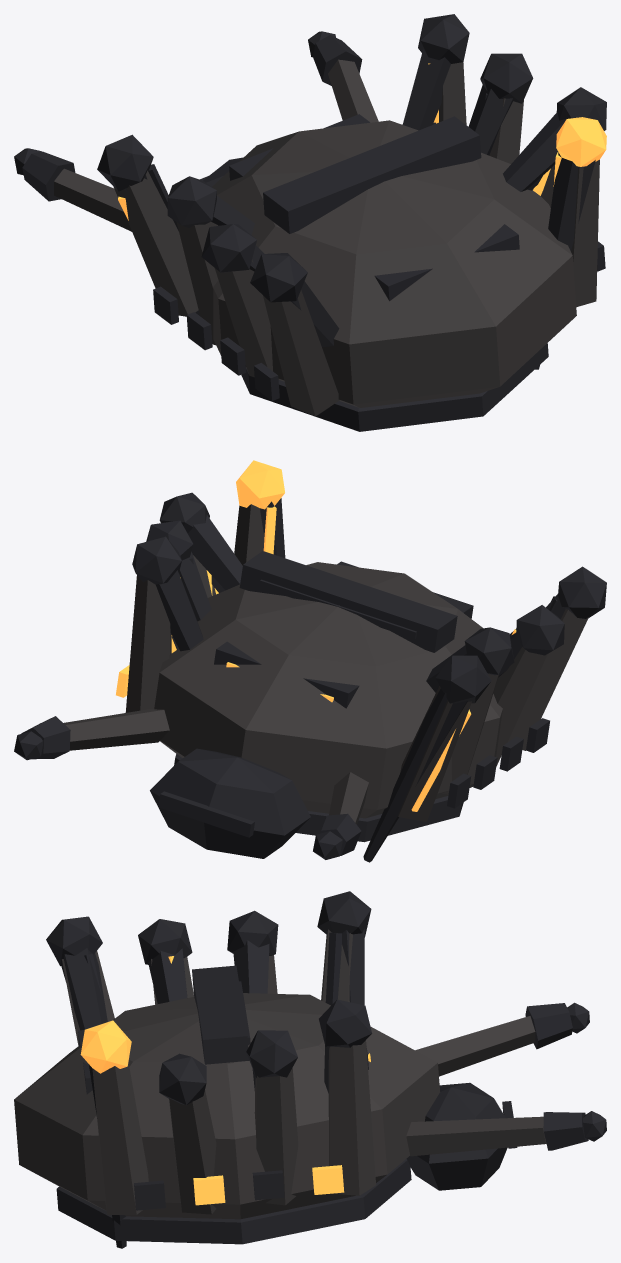
File: Wreck_BulwarkTick.fbx
The picture shows the model from 3 angles, top to bottom: view 1: azimuth 30°, elevation 25°; view 2: azimuth 150°, elevation 25°; view 3: azimuth 270°, elevation 25°; orthographic projection. The views are drawn at different scales.
Visible parts, largest first — view 1: Wreck_BulwarkTick; view 2: Wreck_BulwarkTick; view 3: Wreck_BulwarkTick.
Boxes of the visible parts, bbox=[...] form: Wreck_BulwarkTick: bbox=[14, 14, 606, 431]; Wreck_BulwarkTick: bbox=[14, 460, 606, 862]; Wreck_BulwarkTick: bbox=[14, 891, 606, 1248].
Size of the model in its own units: 0.6319 by 0.4187 by 0.7951.
